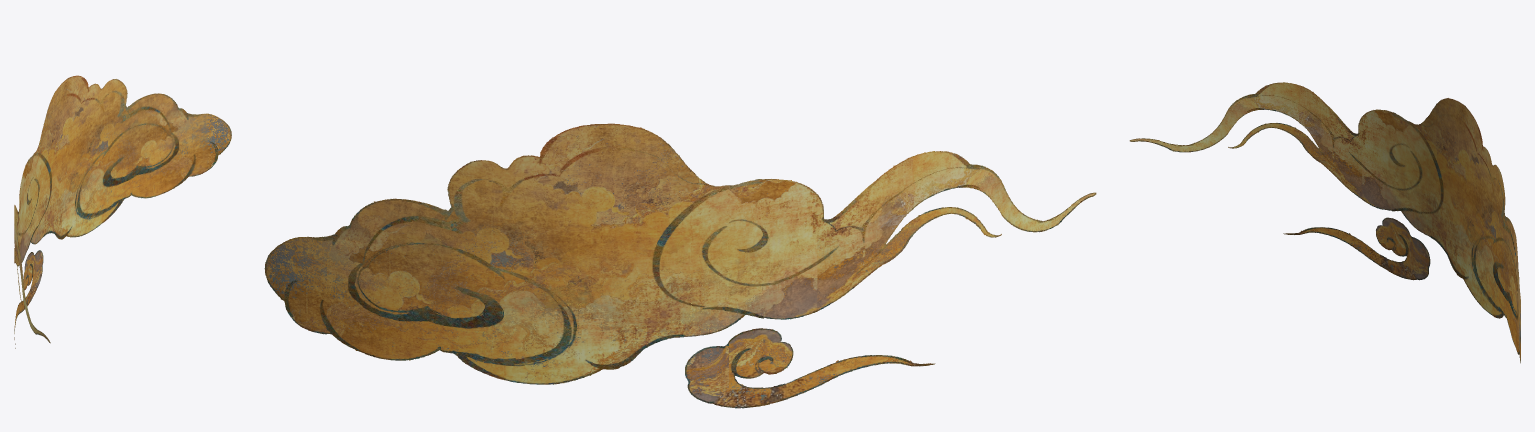
The model's file is yun_03.fbx.
3 renders of one model, left to right at view 1: azimuth 30°, elevation 25°; view 2: azimuth 150°, elevation 25°; view 3: azimuth 270°, elevation 25°, orthographic. The views are drawn at different scales.
Parts seen in each view (by area): view 1: yun_03; view 2: yun_03; view 3: yun_03.
Boxes of the visible parts, x1,y1,x2,y2 form: yun_03: (14,75,231,348); yun_03: (264,123,1096,408); yun_03: (1129,82,1520,363).
Size of the model in its own units: 6262 by 3141 by 5355.
